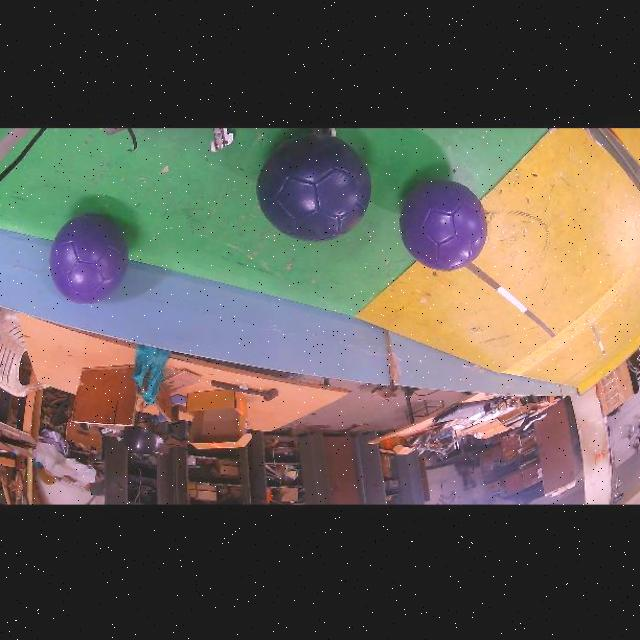B: (260, 136, 374, 243)
P: (400, 181, 487, 273), (49, 215, 128, 304)
